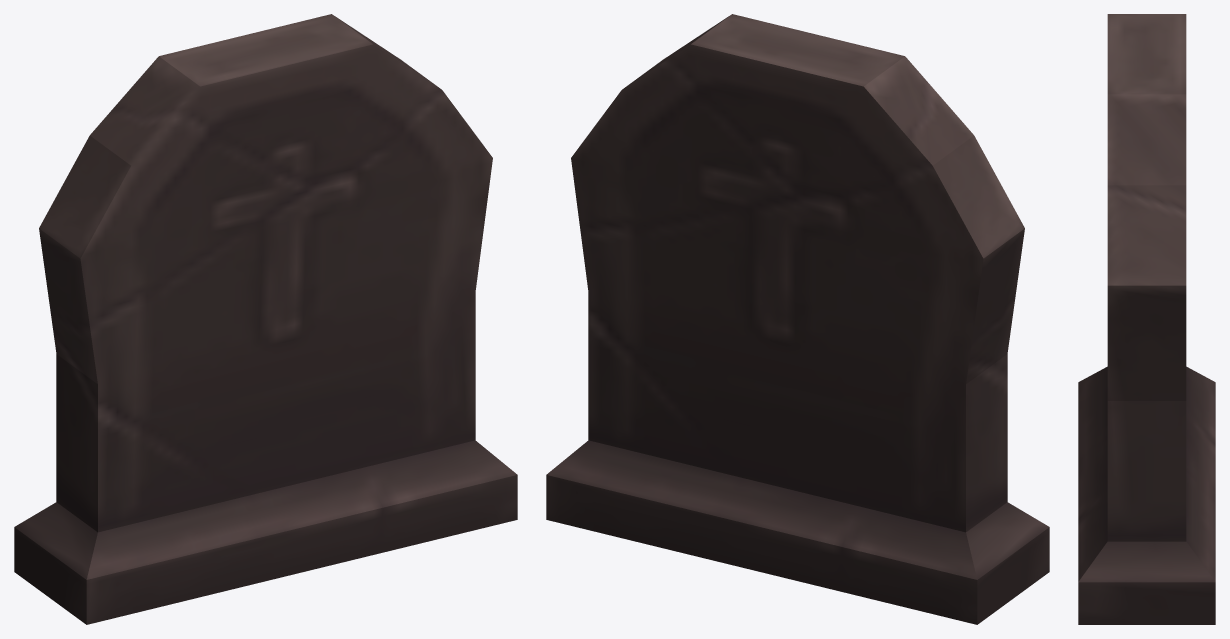
The model's file is grave_1.fbx.
3 views of the same model, side by side, from view 1: azimuth 30°, elevation 25°; view 2: azimuth 150°, elevation 25°; view 3: azimuth 270°, elevation 25° (orthographic). The views are drawn at different scales.
Parts seen in each view (by area): view 1: grave_1; view 2: grave_1; view 3: grave_1.
Boxes of the visible parts, x1,y1,x2,y2 form: grave_1: (14, 14, 517, 624); grave_1: (546, 14, 1049, 624); grave_1: (1078, 14, 1215, 624).
Size of the model in its own units: 0.735 by 0.8076 by 0.2138.
